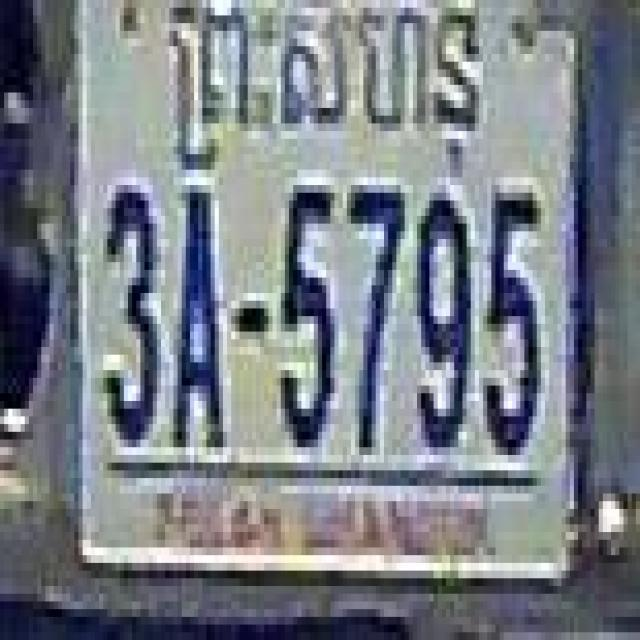Preah_Sihanouk: (169, 0, 478, 171)
